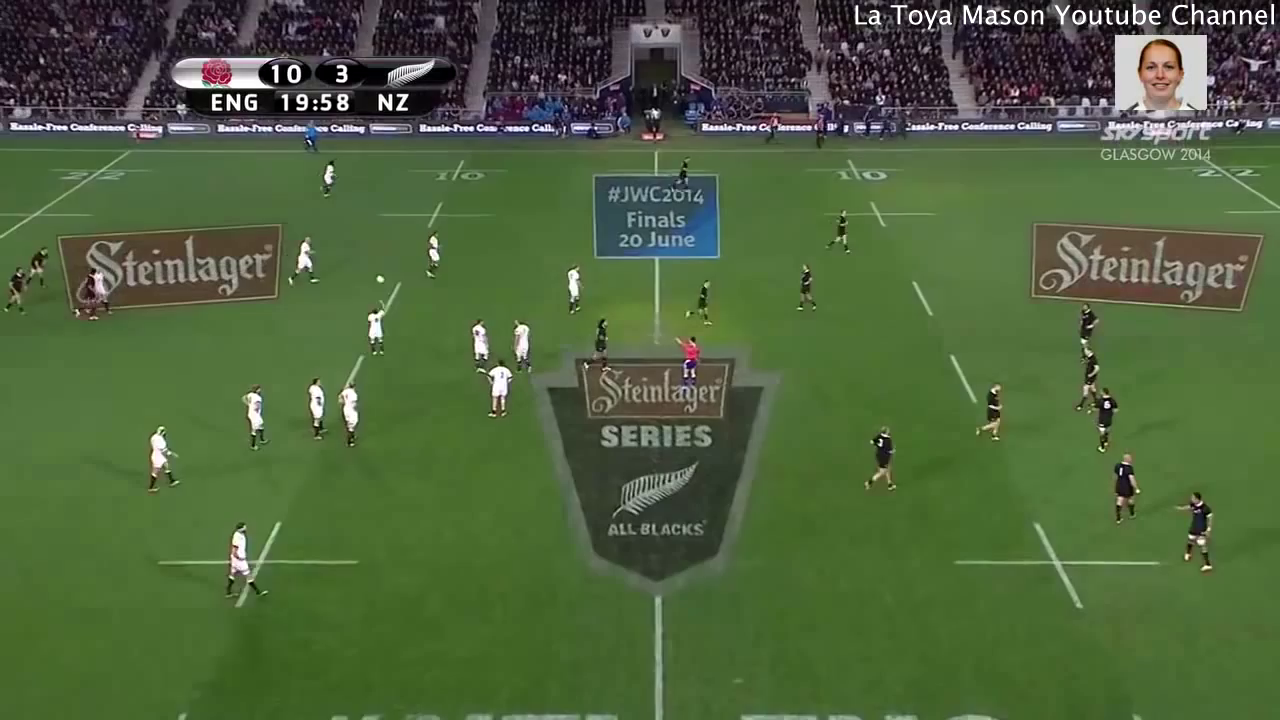10_metre: (953, 516, 1175, 616), (150, 515, 366, 611), (820, 196, 947, 235), (377, 198, 497, 233), (797, 151, 916, 186), (409, 156, 513, 188)
player: (1161, 481, 1223, 584), (216, 516, 272, 604), (325, 366, 377, 457), (1108, 442, 1153, 538), (141, 418, 184, 500), (858, 417, 903, 495), (1071, 340, 1113, 420), (296, 369, 336, 451), (235, 377, 275, 457), (1088, 381, 1128, 460), (971, 376, 1012, 452), (474, 352, 515, 425), (677, 271, 722, 337), (579, 307, 620, 378), (281, 226, 322, 291), (67, 262, 101, 333), (670, 324, 704, 394), (822, 204, 864, 260), (17, 240, 55, 299), (361, 295, 393, 360), (462, 307, 495, 369), (504, 311, 535, 375), (1068, 297, 1105, 348), (1, 260, 31, 322), (89, 258, 117, 323), (792, 260, 821, 317), (559, 261, 589, 316), (419, 227, 446, 284), (670, 151, 697, 194), (316, 156, 337, 200)
